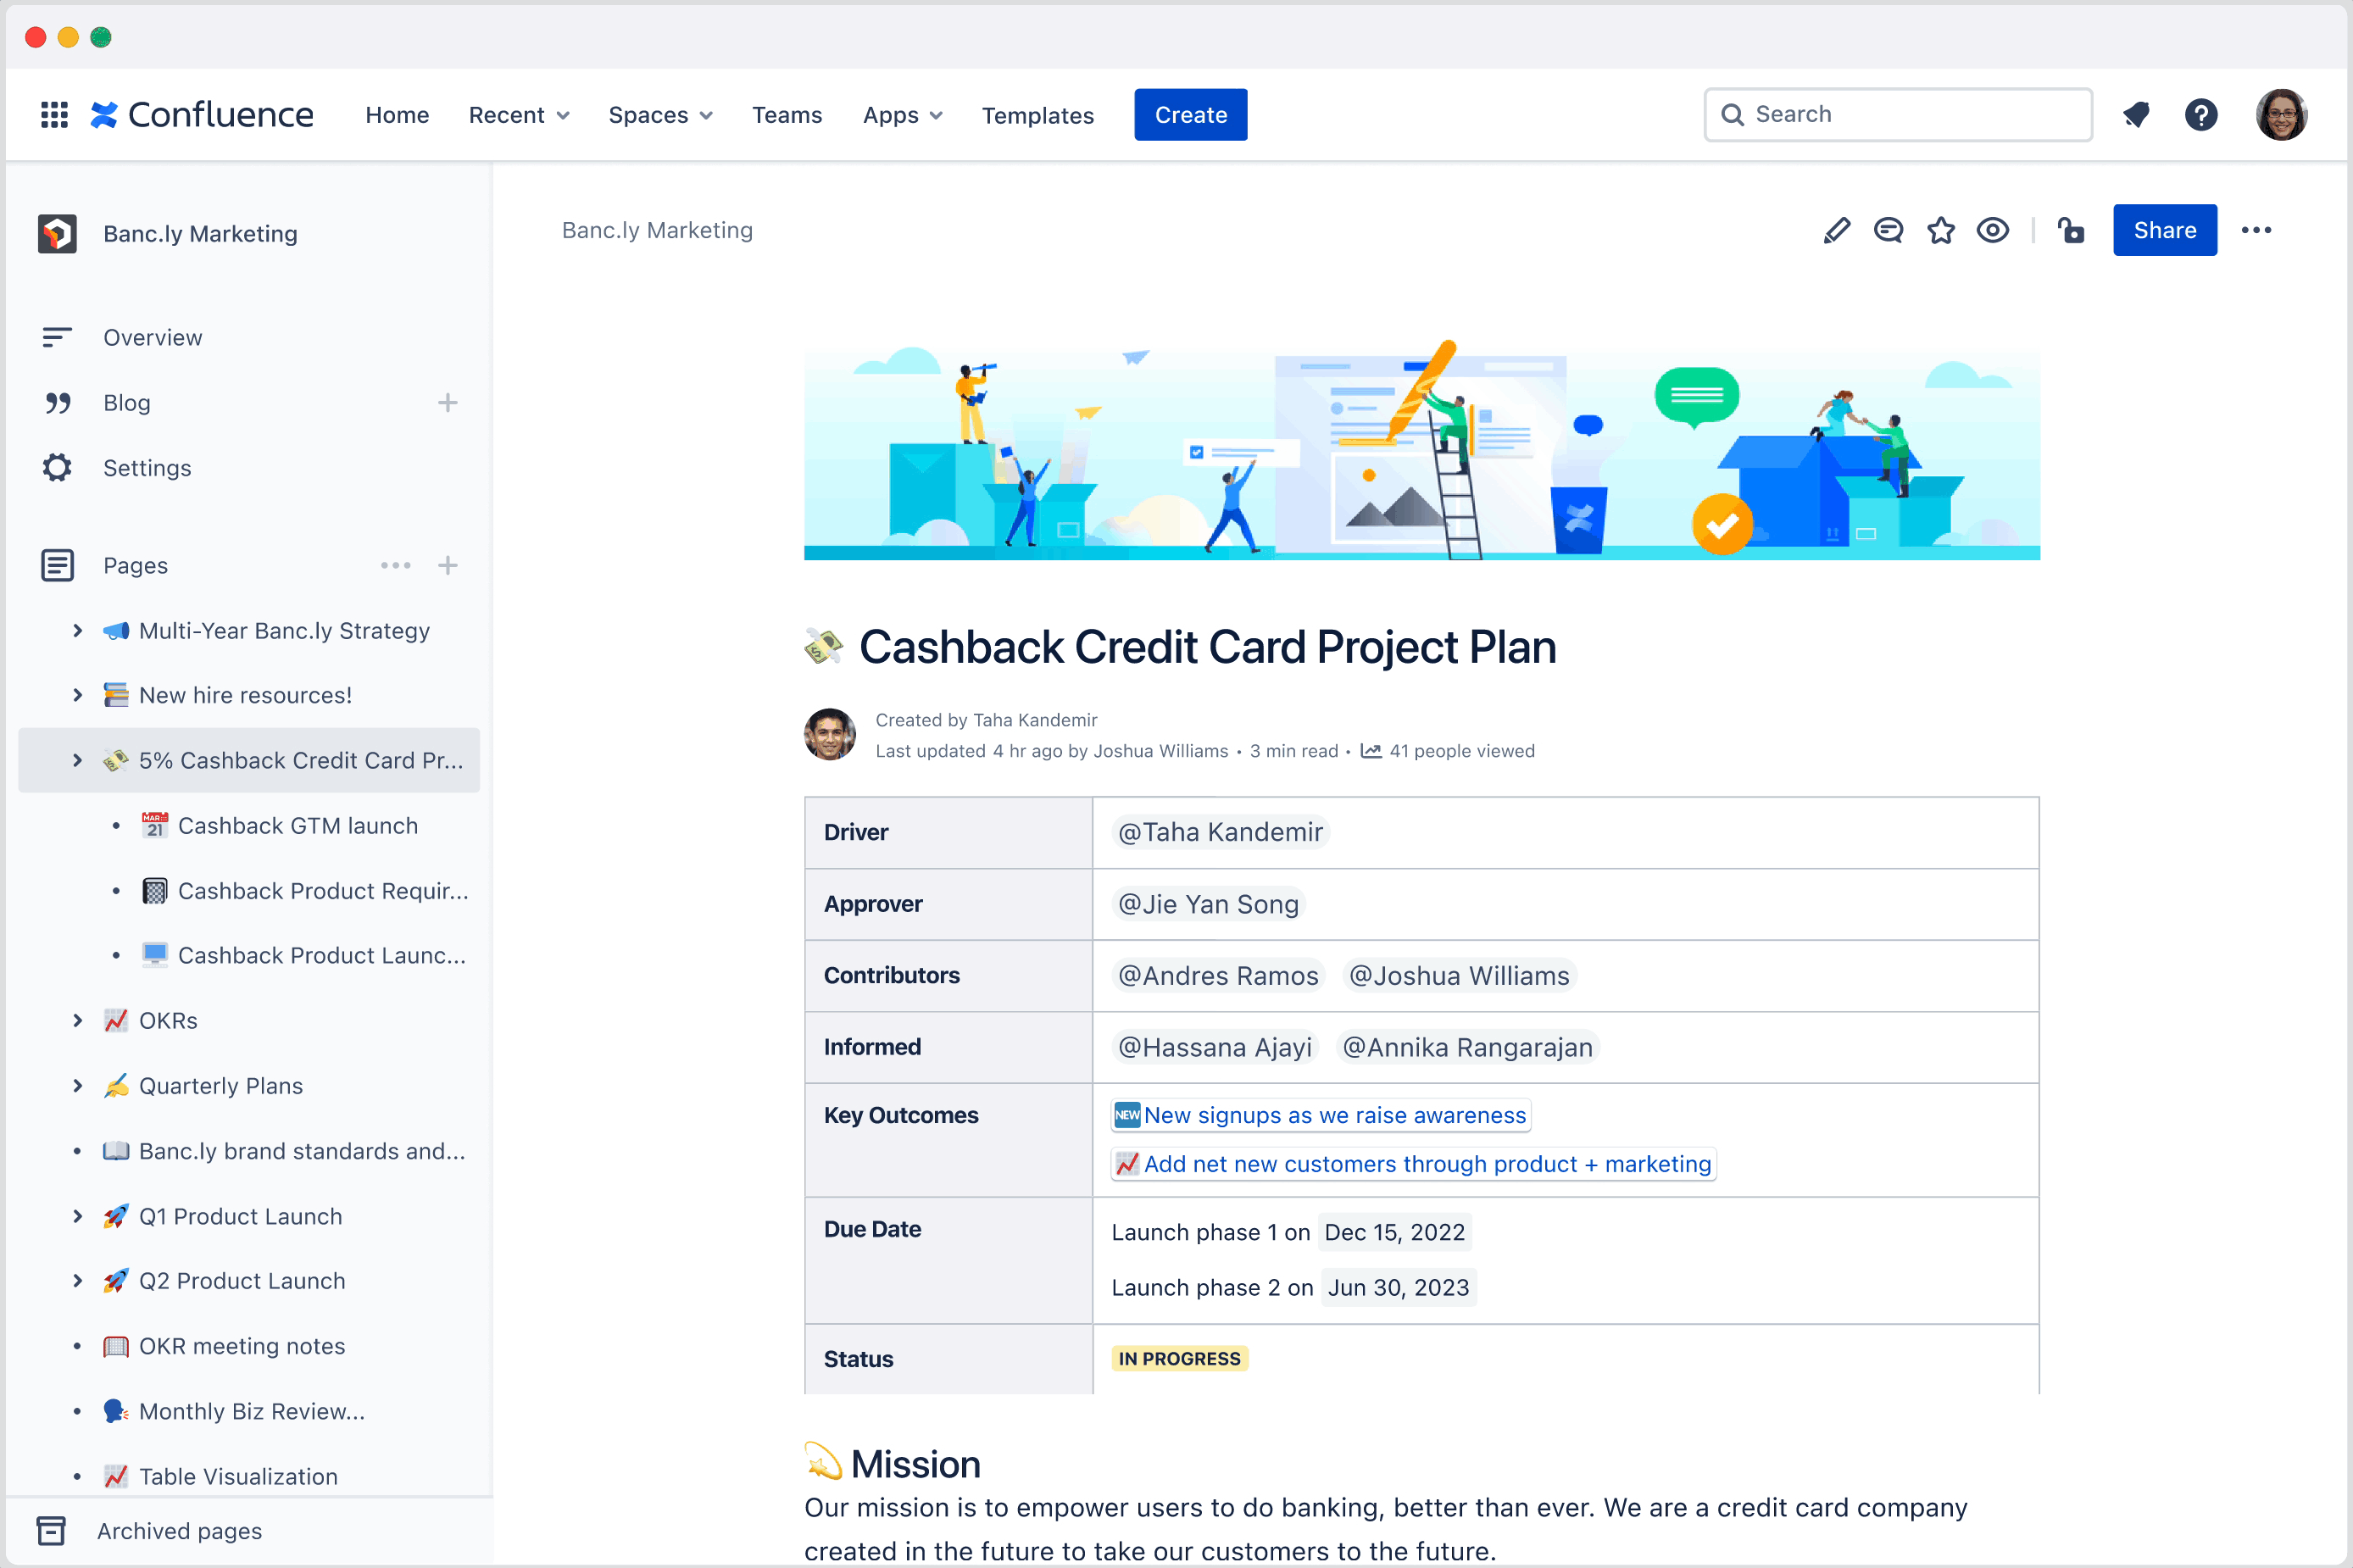button_create: (1137, 84, 1251, 140)
search_box: (1697, 77, 2105, 147)
